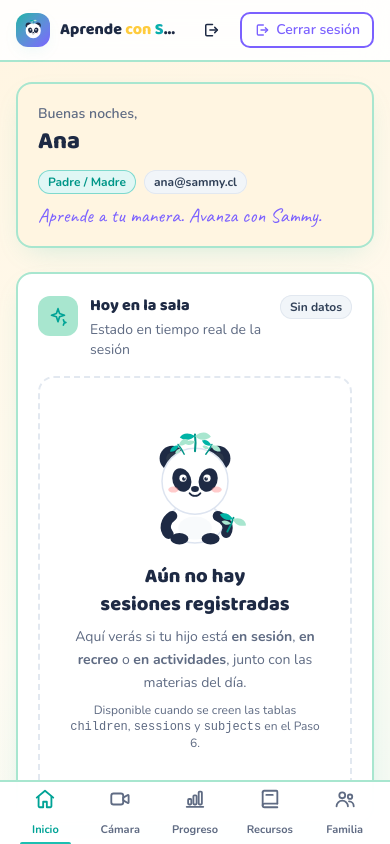
Test case: Enrutamiento — navegación real entre secciones › un clic en la navegación inferior cambia de sección
Expected: the heading "Ana" is shown, [38,122,80,161]
Click the link "Recursos". click: (270, 812)
box: [247,788,293,836]
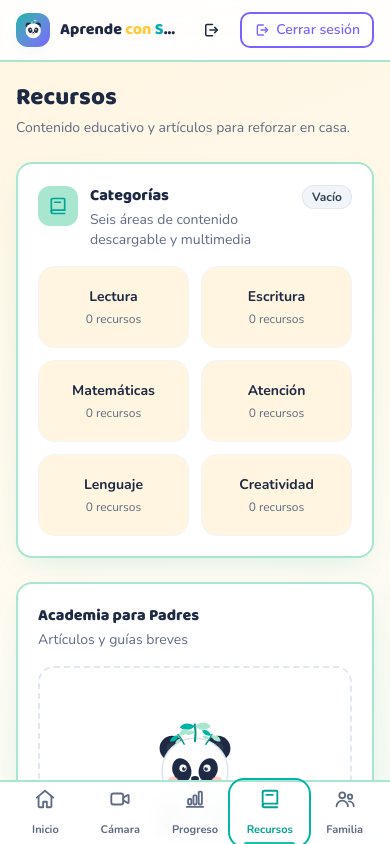
Now the heading "Academia para Padres" is shown, box [38,604,199,628]
